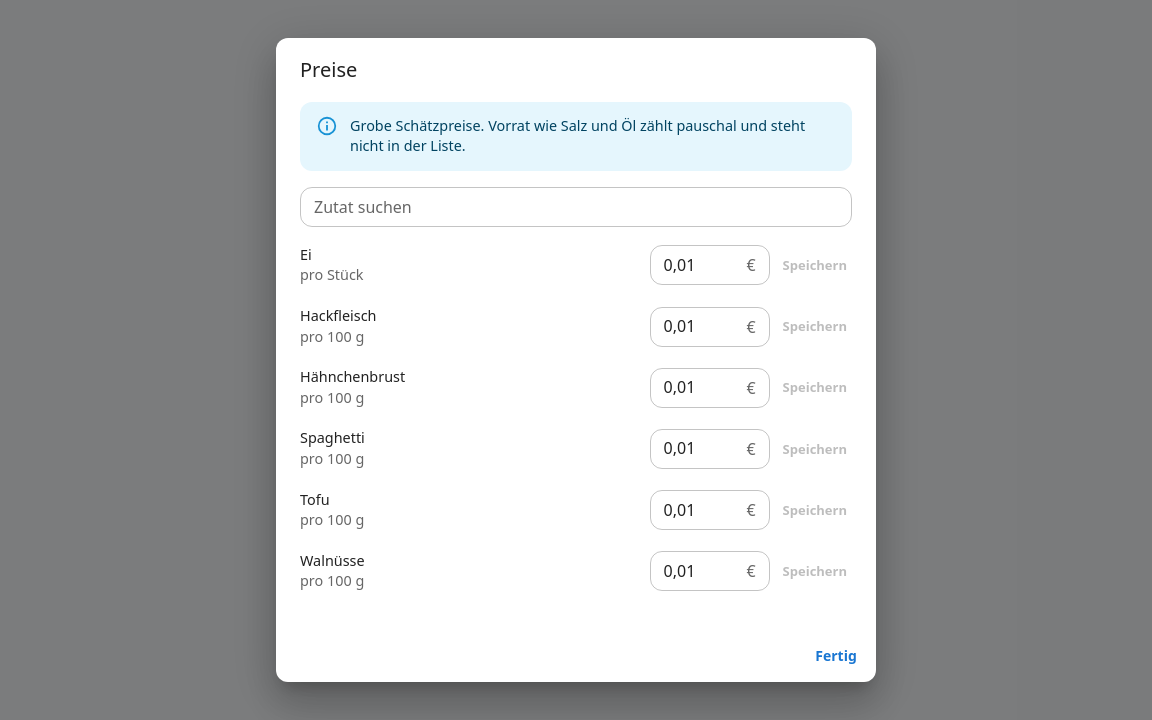
Scenario: IngredientPricesDialog (FOOD-013) › filters, rejects invalid prices and reports server errors
Check: the text "Spaghetti" is shown, box [300,428,365,447]
Type "ei" into the field labelled "Zutat suchen". click: [576, 207]
box: [300,187,852,227]
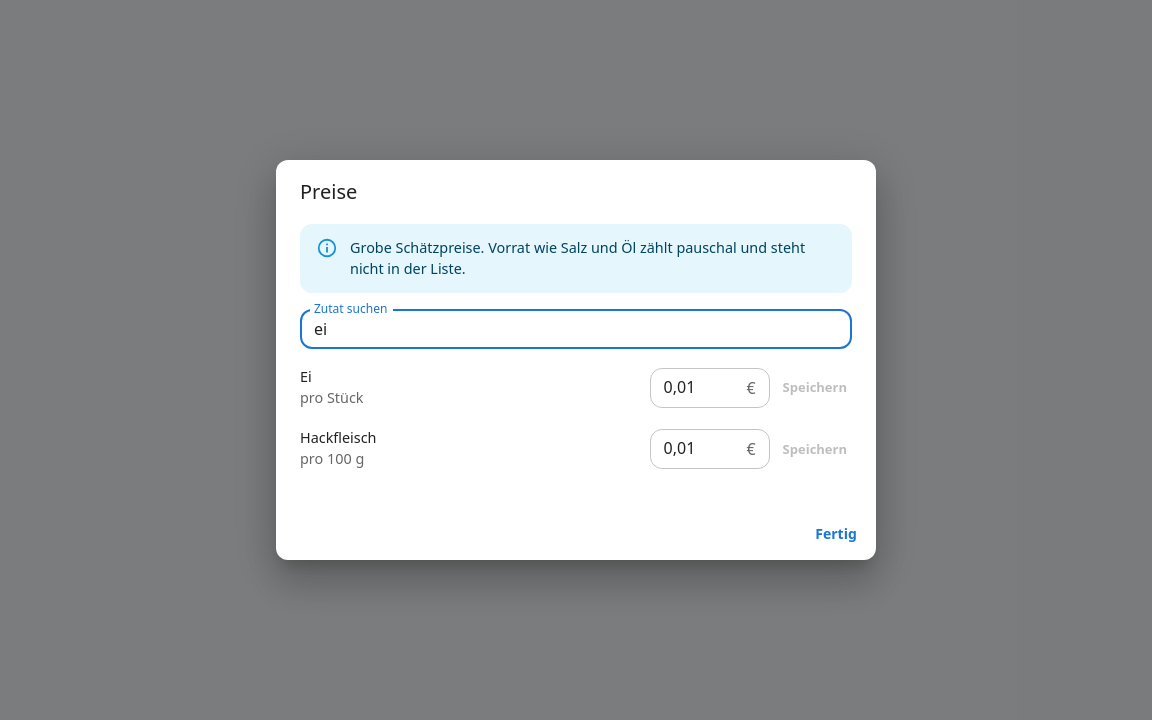
Check: the text "Ei" is shown, box [300,367,312,386]
Check: the text "Spaghetti" is gone
Clear the field named "Preis Ei". click: [694, 388]
box: [650,368,738,408]
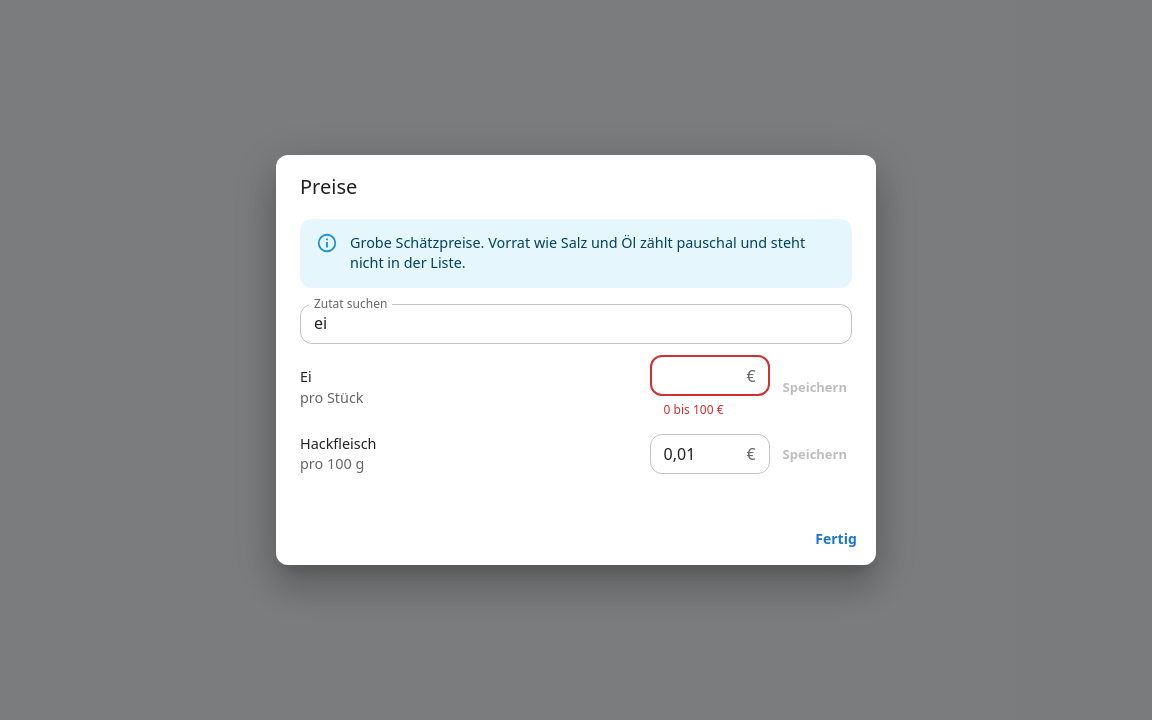
Type "abc" into the field named "Preis Ei". click: [694, 376]
box: [650,356,738,396]
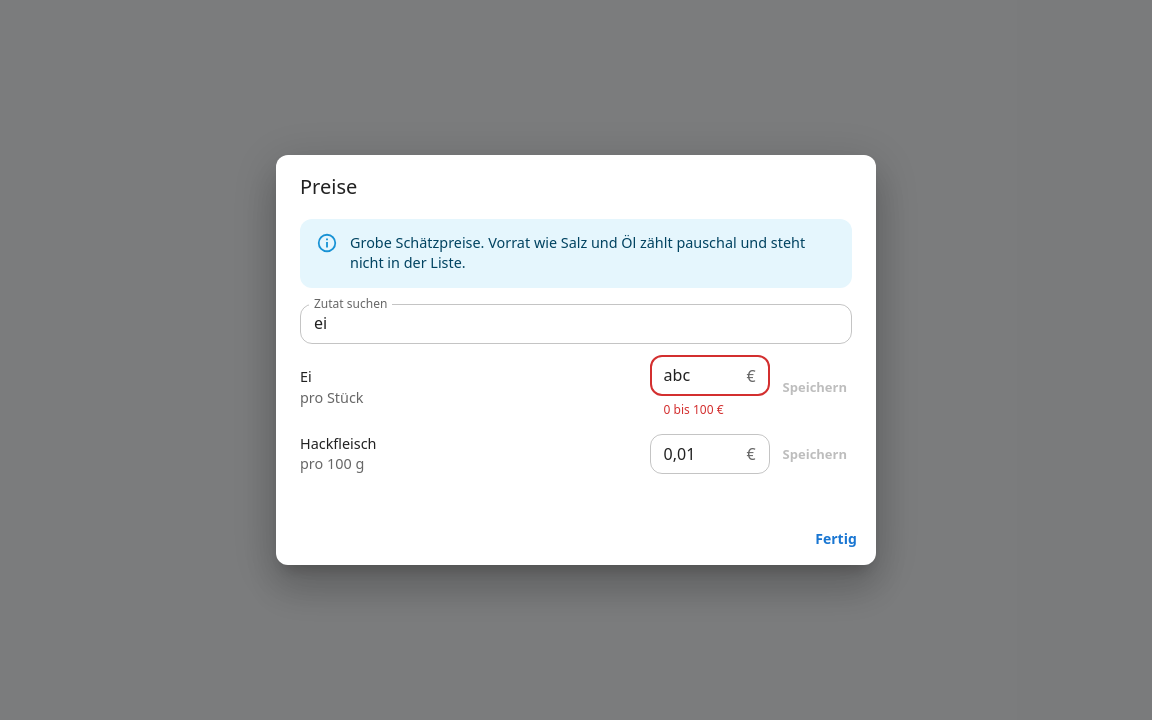
Check: the button with aria-label "Preis Ei speichern" is disabled, box [778,372,852,403]
Check: the text "0 bis 100 €" is shown, box [664,401,724,418]
Replace the text in the field named "Preis Ei" with "0,4". click: [694, 376]
box: [650,356,738,396]
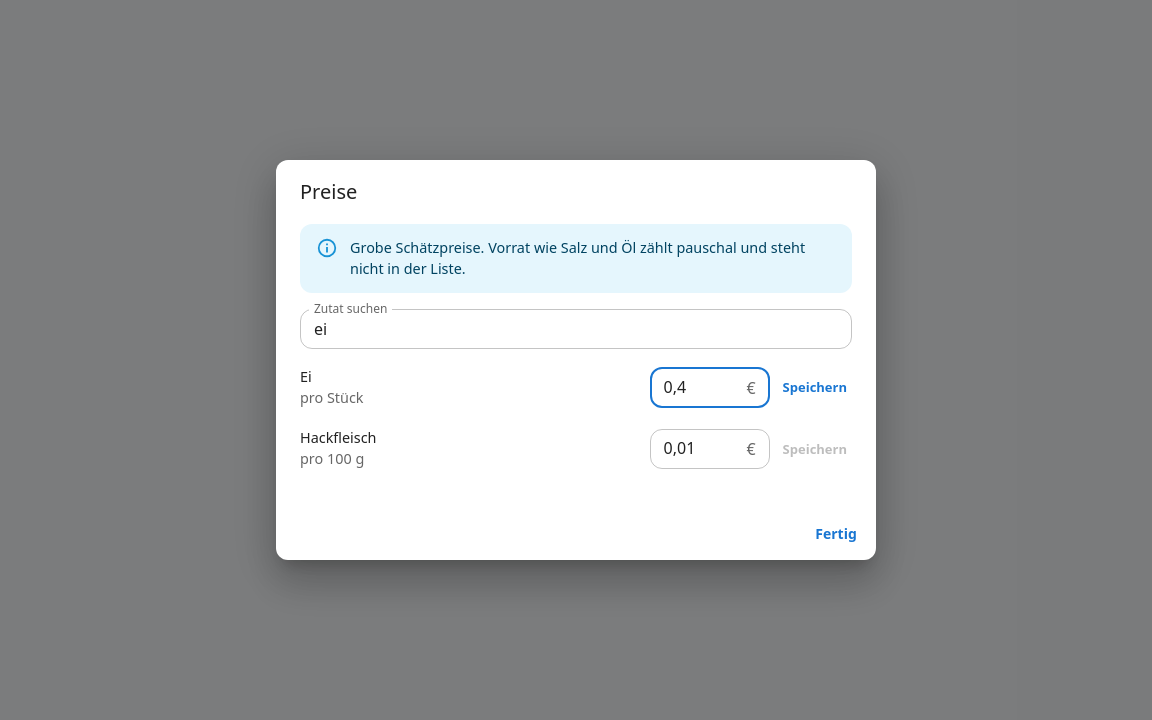
Click the button with aria-label "Preis Ei speichern". click: [815, 388]
box: [778,372,852,403]
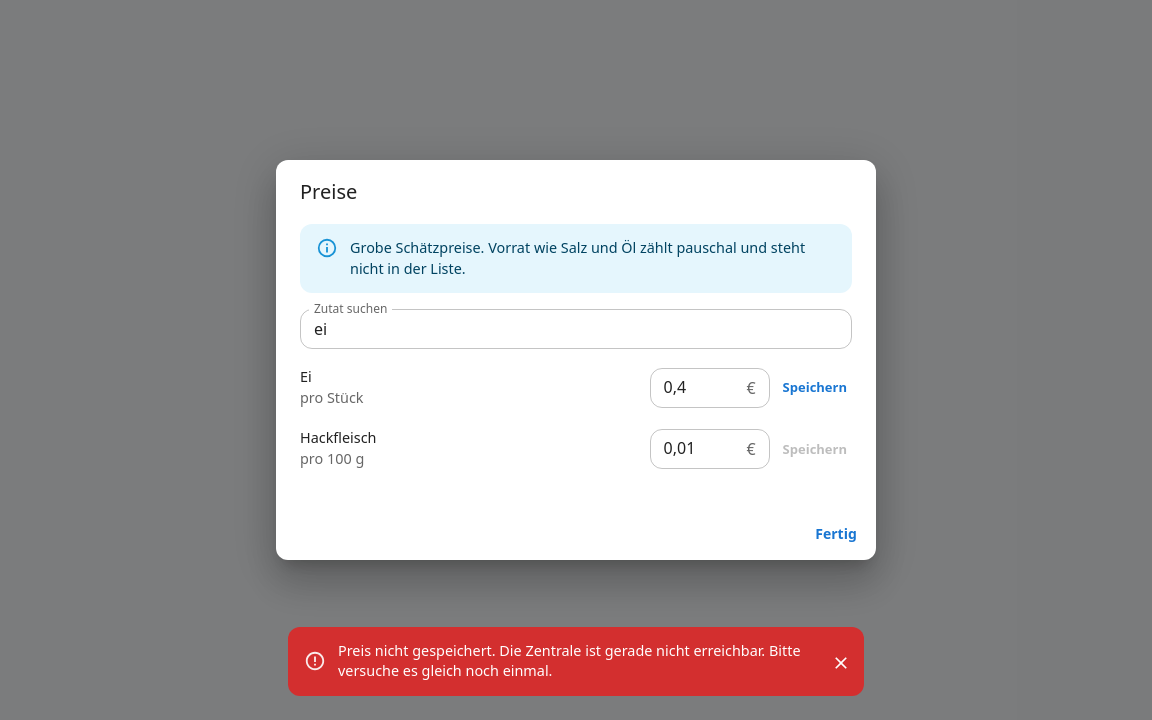
Check: the text "Preis nicht gespeichert." is shown, box [338,641,800,680]
